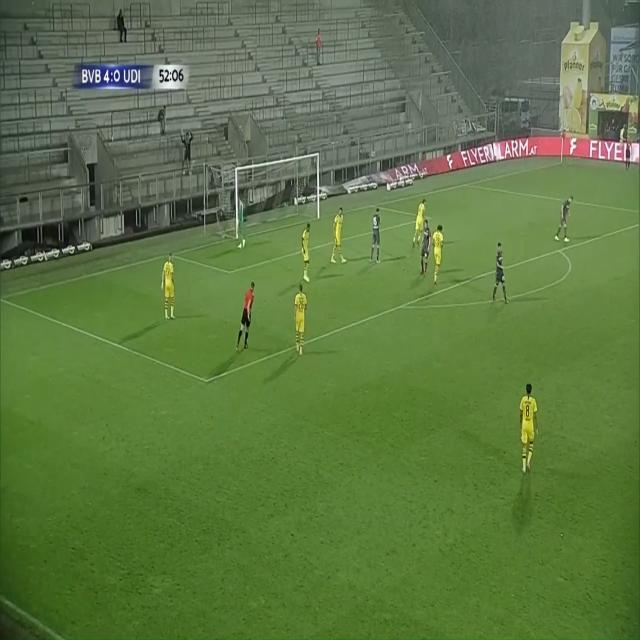goalkeeper: (236, 197, 250, 253)
player: (518, 376, 544, 486), (492, 242, 514, 323), (160, 244, 181, 325), (367, 203, 389, 270), (556, 189, 577, 254), (295, 276, 311, 359), (299, 223, 316, 288), (332, 203, 347, 271), (420, 219, 436, 276), (432, 224, 446, 289), (415, 193, 426, 253)
referee: (236, 273, 260, 372)
